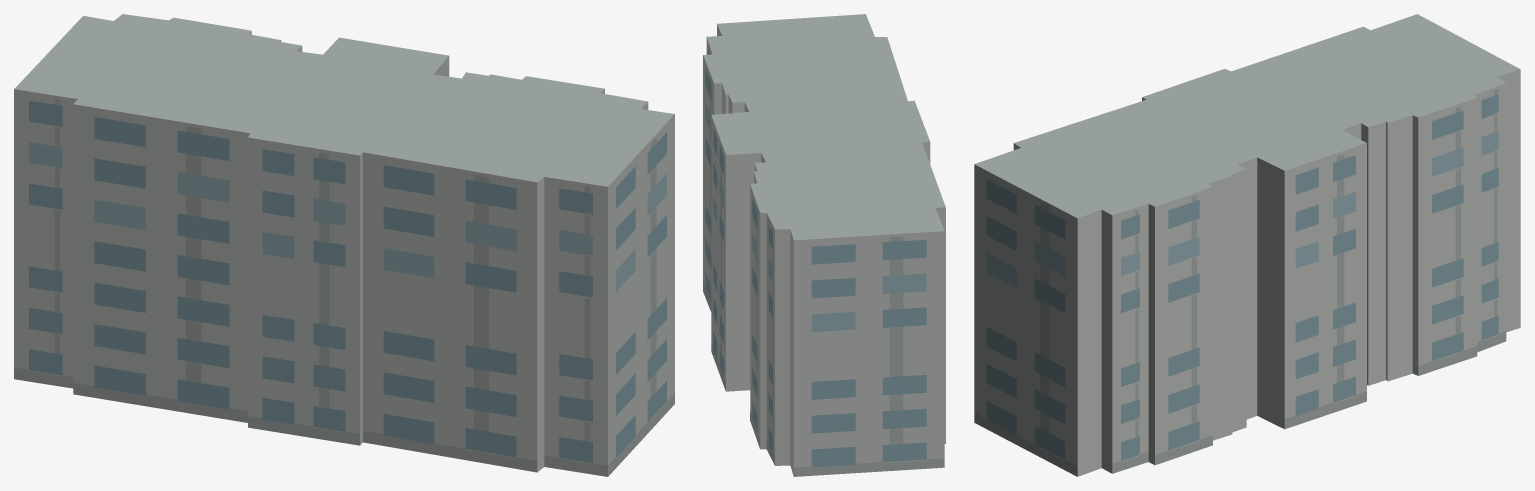
Rendered from survey-upis-32677875.glb.
3 renders of one model, left to right at view 1: azimuth 30°, elevation 25°; view 2: azimuth 150°, elevation 25°; view 3: azimuth 270°, elevation 25°, orthographic. The views are drawn at different scales.
Visible parts, largest first — view 1: survey-upis-32677875.tmp; view 2: survey-upis-32677875.tmp; view 3: survey-upis-32677875.tmp.
Part boxes in pixels (x1,y1,x2,y2): survey-upis-32677875.tmp: (14,14,674,476); survey-upis-32677875.tmp: (703,14,945,476); survey-upis-32677875.tmp: (974,14,1520,476).
Bounding box in the file's own units: 34.6 × 20.4 × 39.08.
